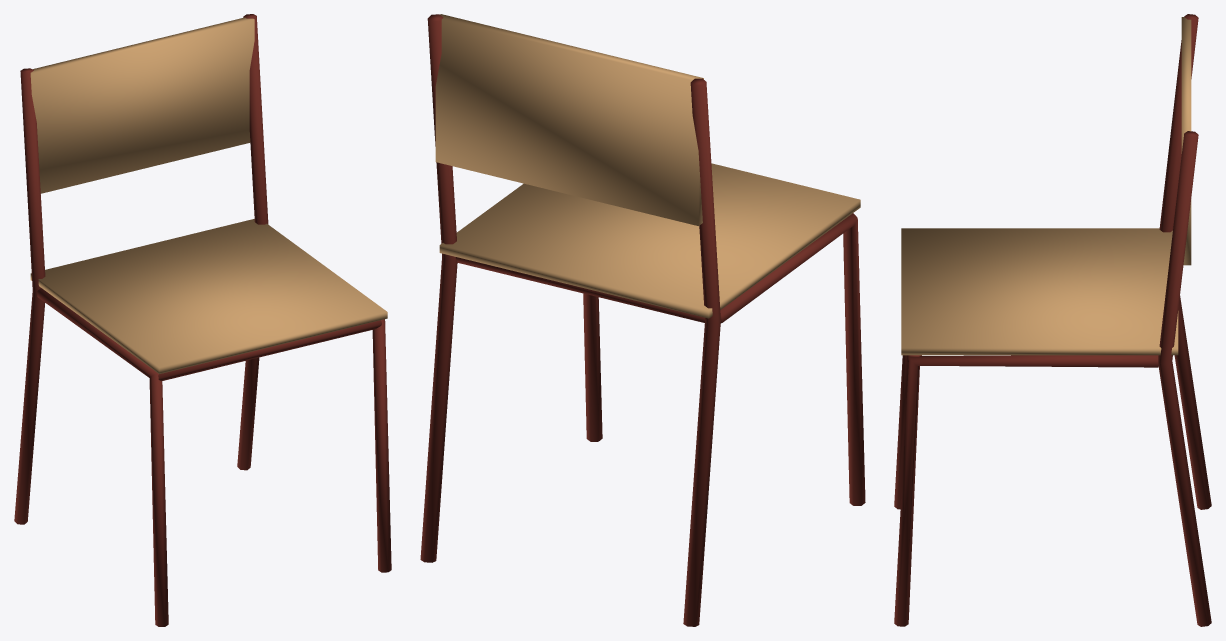
Rendered from tpl_s5_stal_chairs.glb.
3 views of the same model, side by side, from view 1: azimuth 30°, elevation 25°; view 2: azimuth 150°, elevation 25°; view 3: azimuth 270°, elevation 25° (orthographic). The views are drawn at different scales.
Visible parts, largest first — view 1: tpl_s5_stal_chairs; view 2: tpl_s5_stal_chairs; view 3: tpl_s5_stal_chairs.
Boxes of the visible parts, <box> form: tpl_s5_stal_chairs: <box>14,14,391,626</box>; tpl_s5_stal_chairs: <box>420,14,865,626</box>; tpl_s5_stal_chairs: <box>894,14,1211,626</box>.
Bounding box in the file's own units: 0.4391 × 0.8226 × 0.4819.
